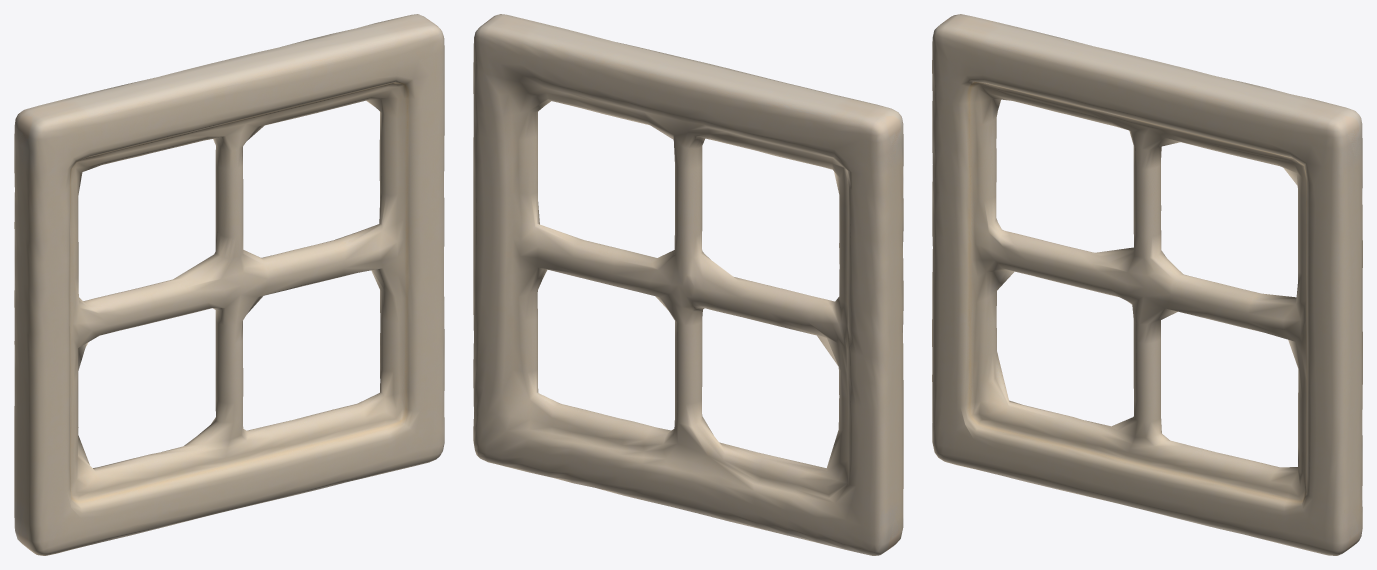
The model's file is house_mod_window_normal.glb.
3 renders of one model, left to right at view 1: azimuth 30°, elevation 25°; view 2: azimuth 150°, elevation 25°; view 3: azimuth 330°, elevation 25°, orthographic.
Bounding box in the file's own units: 1.98 × 2 × 0.2102.
Materials: 1 (1 with a texture image).
